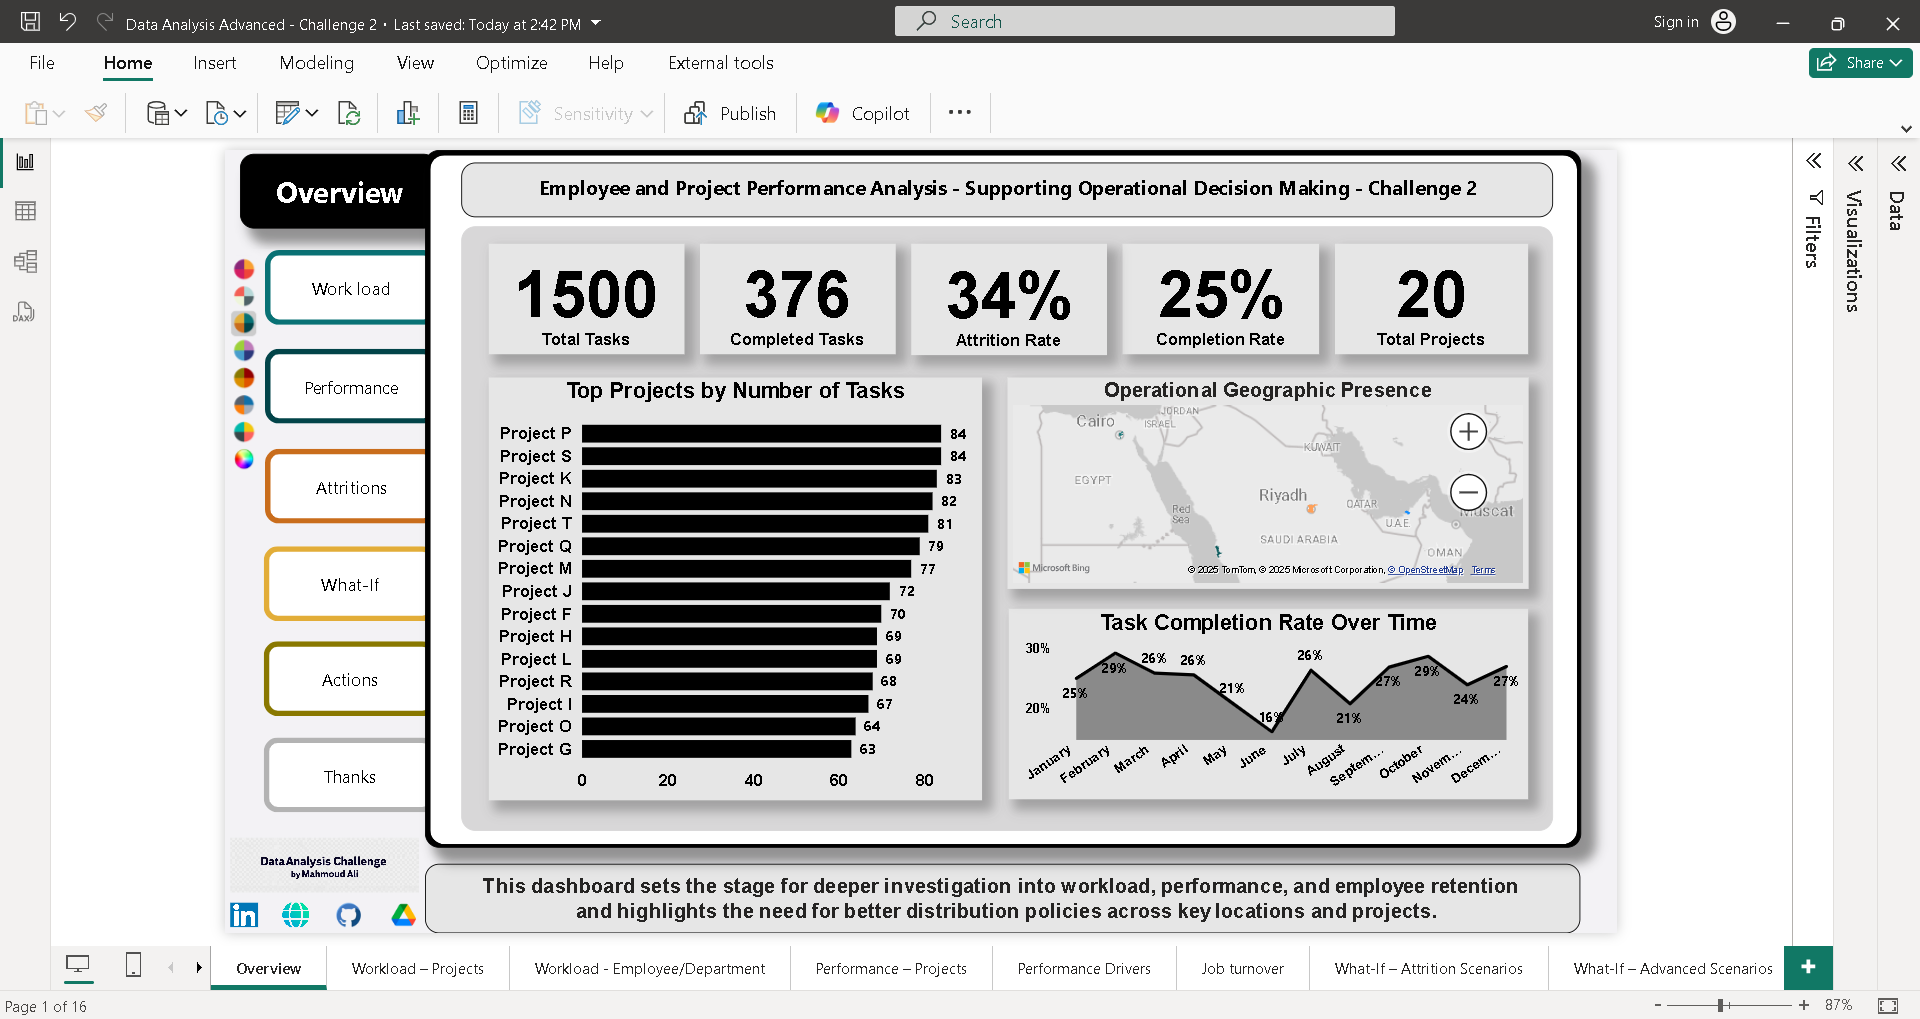

The page's visual inventory and layout, read from the dashboard file:
{"tool":"powerbi","page":{"name":"Overview","canvas":[1280,720],"ordinal":0},"visuals":[{"type":"actionButton","title":"Button","box":[36.7,274.4,158.9,68.9],"z":0},{"type":"actionButton","title":"Button","box":[35.6,364.4,158.9,68.9],"z":1000},{"type":"actionButton","box":[36.7,182.2,158.9,68.9],"z":2000},{"type":"ChicletSlicer1448559807354","fields":{"Category":["Sheet1.Color Scheme"],"Image":["Sheet1.URL"]},"box":[0,91.9,36,217.4],"z":3000},{"type":"image","box":[0,687.5,35,32.5],"z":4000},{"type":"image","box":[47.5,687.5,36.2,32.5],"z":5000},{"type":"image","box":[90,687.5,48.8,32.5],"z":6000},{"type":"image","box":[146.2,687.5,37.5,32.5],"z":7000},{"type":"actionButton","title":"Button","box":[36.7,92.2,158.9,68.9],"z":8000},{"type":"textbox","box":[183.8,656.2,1062.5,63.8],"z":9000},{"type":"actionButton","title":"Button","box":[14,3.5,181.4,68.6],"z":10000},{"type":"actionButton","title":"Button","box":[35.6,452.2,158.9,68.9],"z":11000},{"type":"actionButton","title":"Button","box":[35.6,540,158.9,68.9],"z":12000},{"type":"image","box":[0,627.5,183.8,60],"z":13000},{"type":"actionButton","box":[183.4,0,1062.9,641.8],"z":14000},{"type":"basicShape","box":[217.2,70,1003.8,556.2],"z":15000},{"type":"card","fields":{"Values":["Measures Table.Total Tasks"]},"box":[242.5,85.7,179.8,101.3],"z":16000},{"type":"card","fields":{"Values":["Measures Table.Completed Tasks"]},"box":[436.7,85.7,179.8,101.3],"z":17000},{"type":"card","fields":{"Values":["Measures Table.Avg Completion Rate"]},"box":[825.2,85.7,181,101.3],"z":18000},{"type":"card","fields":{"Values":["Measures Table.Total Projects"]},"box":[1020.6,85.7,177.3,101.3],"z":19000},{"type":"barChart","title":"Top Projects by Number of Tasks","fields":{"Y":["Measures Table.Total Tasks"],"Category":["Advanced_Projects.Project Name"]},"box":[242.5,208.7,453.6,388.5],"z":20000},{"type":"areaChart","title":"Task Completion Rate Over Time","fields":{"Y":["Measures Table.Task Completion Rate (%)"],"Category":["Advanced_Employees.Date of Joining.Variation.Date Hierarchy.Month"]},"box":[720.2,422.3,477.8,174.9],"z":21000},{"type":"card","fields":{"Values":["Measures Table.Attrition Rate"]},"box":[631,85.7,179.8,102.5],"z":22000},{"type":"filledMap","title":"Operational Geographic Presence","fields":{"Category":["Advanced_Projects.Location"],"Series":["Advanced_Projects.Project ID"]},"box":[719,208.7,479,194.2],"z":23000},{"type":"textbox","box":[217.2,12.1,1003.8,50.7],"z":24000}]}

Visuals, with their boxes on the page's 1280x720 design canvas (x1, y1, x2, y2). These are canvas units, not pixel positions in the 1920x1019 screenshot, which may show the page scaled, cropped or inside an application window:
"Button" actionButton: 37,274,196,343
"Button" actionButton: 36,364,194,433
actionButton: 37,182,196,251
ChicletSlicer1448559807354 - Sheet1.Color Scheme x Sheet1.URL: 0,92,36,309
image: 0,688,35,720
image: 48,688,84,720
image: 90,688,139,720
image: 146,688,184,720
"Button" actionButton: 37,92,196,161
textbox: 184,656,1246,720
"Button" actionButton: 14,4,195,72
"Button" actionButton: 36,452,194,521
"Button" actionButton: 36,540,194,609
image: 0,628,184,688
actionButton: 183,0,1246,642
basicShape: 217,70,1221,626
card - Measures Table.Total Tasks: 242,86,422,187
card - Measures Table.Completed Tasks: 437,86,616,187
card - Measures Table.Avg Completion Rate: 825,86,1006,187
card - Measures Table.Total Projects: 1021,86,1198,187
"Top Projects by Number of Tasks" barChart: 242,209,696,597
"Task Completion Rate Over Time" areaChart: 720,422,1198,597
card - Measures Table.Attrition Rate: 631,86,811,188
"Operational Geographic Presence" filledMap: 719,209,1198,403
textbox: 217,12,1221,63
